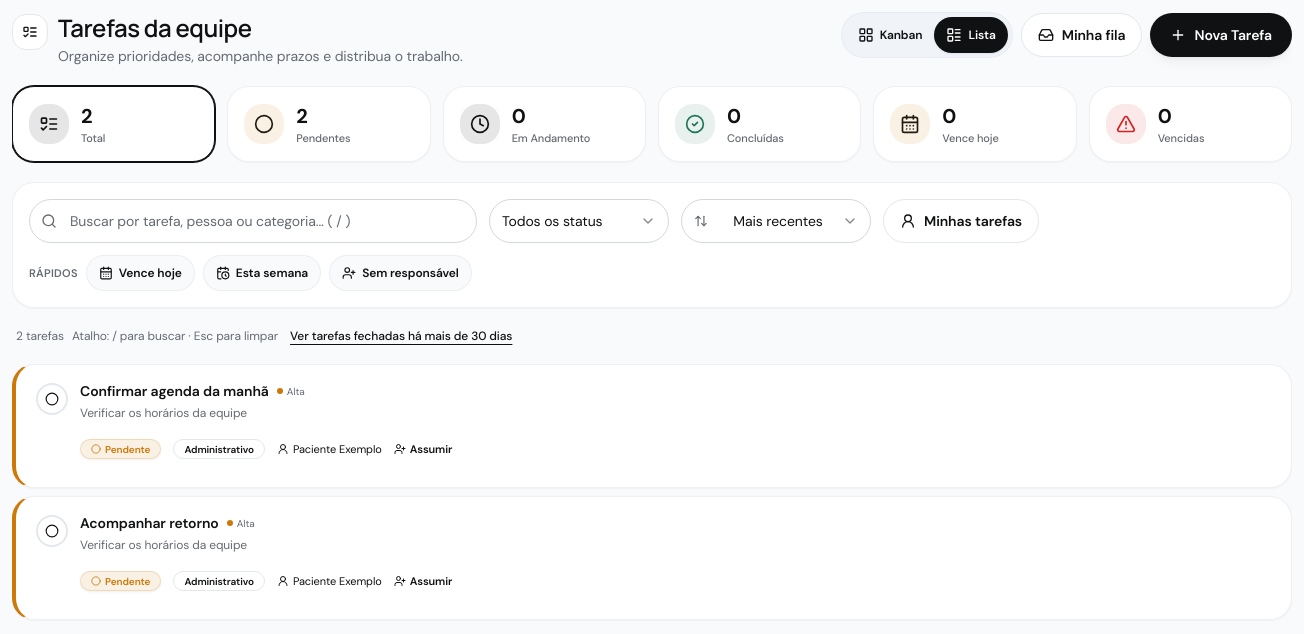
Scenario: Tarefas › filtra tarefas atribuídas ao usuário e limpa o filtro pessoal
This screenshot has width=1304, height=634.
Click the button "Minhas tarefas" at (961, 221), box [883, 199, 1039, 243]
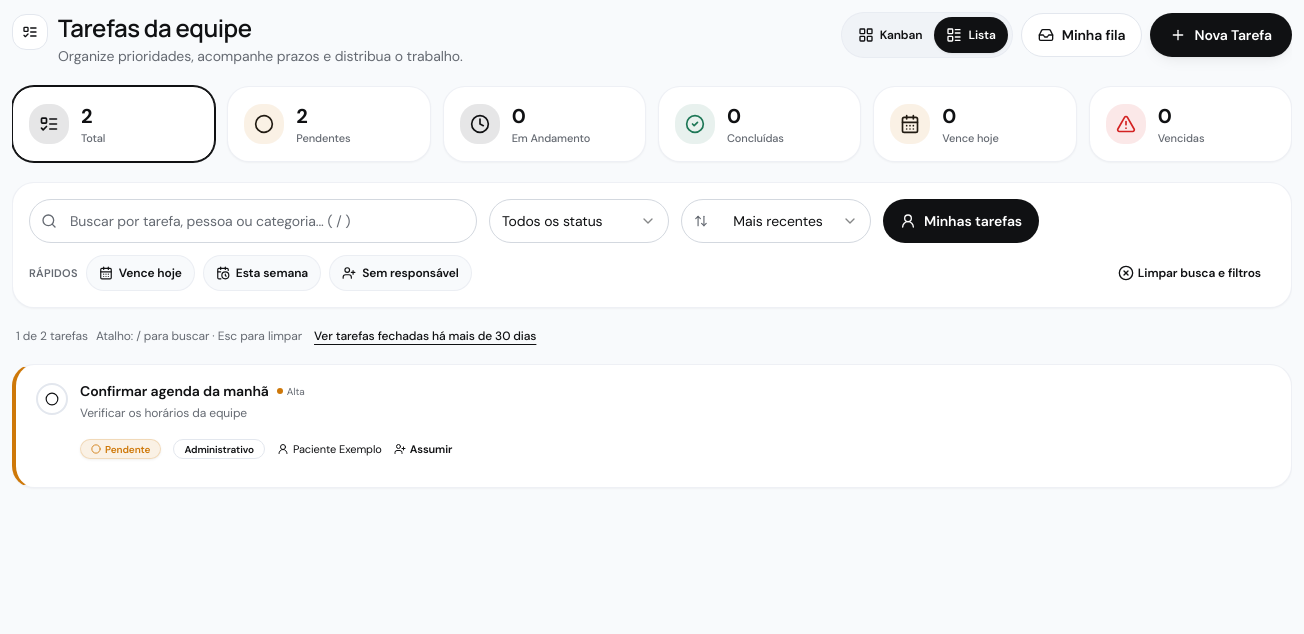
Expected: the text "Confirmar agenda da manhã" is shown, [80, 381, 269, 401]
Result: the text "1 de 2 tarefas" is shown at [16, 328, 88, 344]
Result: the text "Acompanhar retorno" is gone
Type "retorno" into the field named "Buscar tarefas" at (253, 221), box [29, 199, 477, 243]
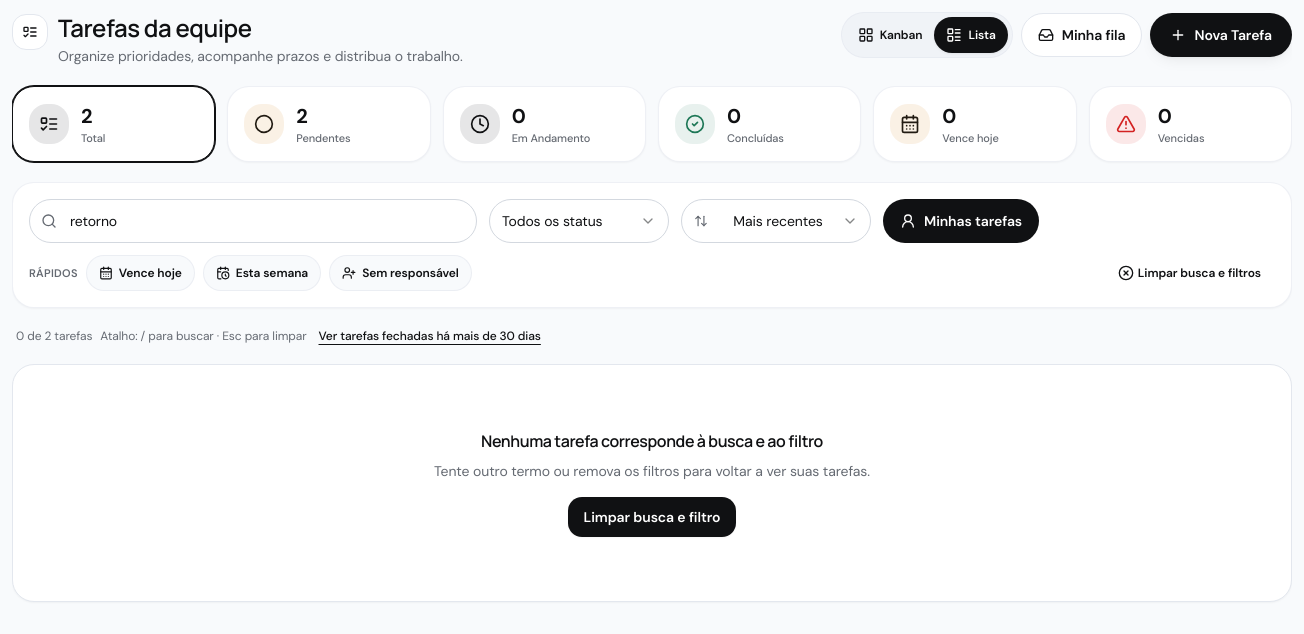
Result: the text "0 de 2 tarefas" is shown at [16, 328, 92, 344]
Click the button "Limpar busca e filtros" at (1189, 273), box [1104, 255, 1275, 291]
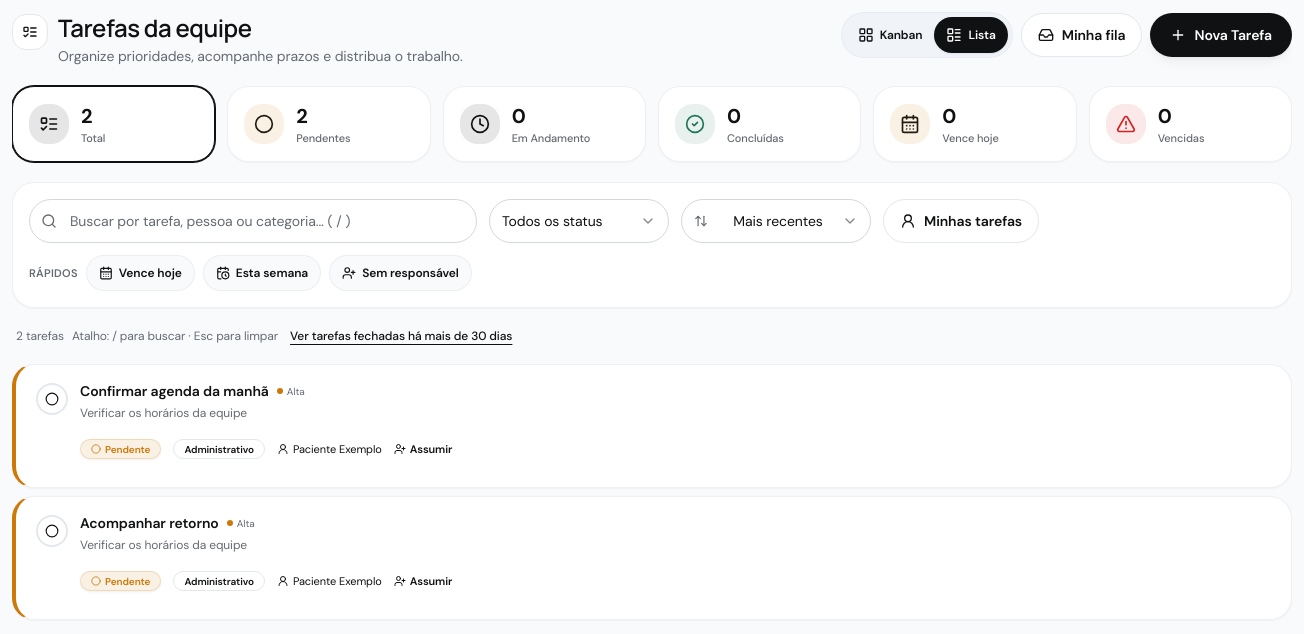
Result: the text "Confirmar agenda da manhã" is shown at [80, 381, 269, 401]
Result: the text "Acompanhar retorno" is shown at [80, 513, 219, 533]
